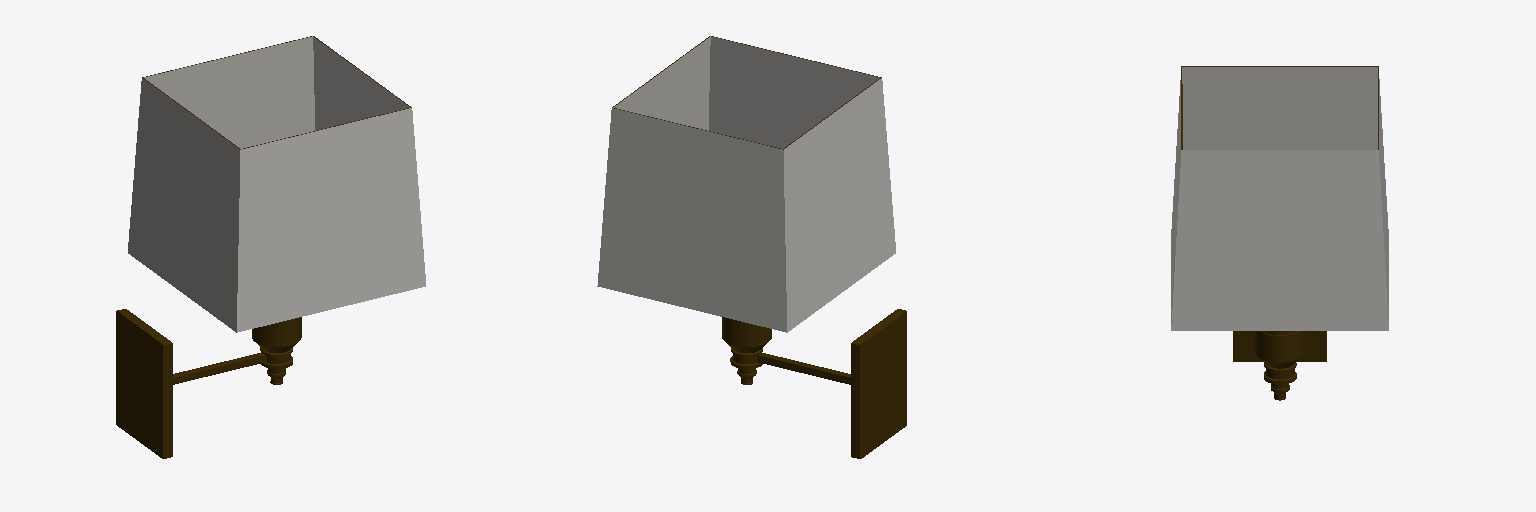
The model's file is Sconce.obj.
3 views of the same model, side by side, from view 1: azimuth 30°, elevation 25°; view 2: azimuth 150°, elevation 25°; view 3: azimuth 270°, elevation 25° (orthographic).
Visible parts, largest first — view 1: Object01, Lamp_Lexin; view 2: Object01, Lamp_Lexin; view 3: Object01, Lamp_Lexin.
Part boxes in pixels (bbox=[...]): Object01: bbox=[128, 36, 425, 332]; Lamp_Lexin: bbox=[116, 36, 411, 458]; Object01: bbox=[597, 36, 895, 332]; Lamp_Lexin: bbox=[612, 36, 906, 458]; Object01: bbox=[1171, 67, 1388, 330]; Lamp_Lexin: bbox=[1181, 66, 1378, 400].
Size of the model in its own units: 2.19 by 2.86 by 1.79.